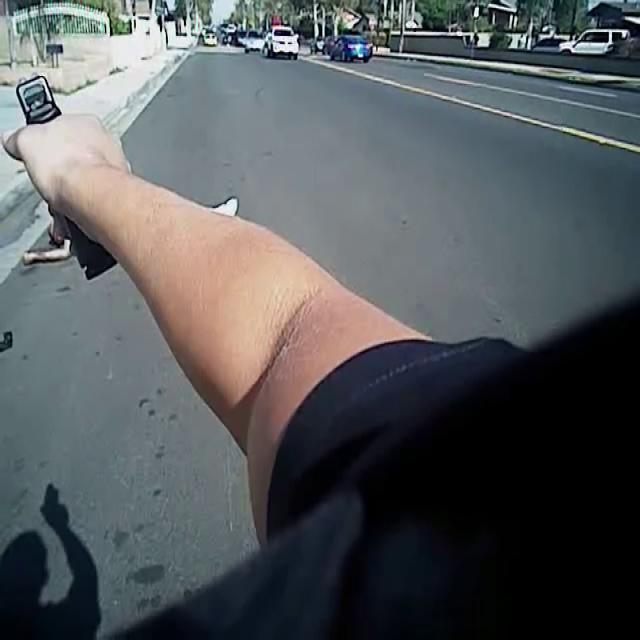gun: (3, 66, 143, 289)
